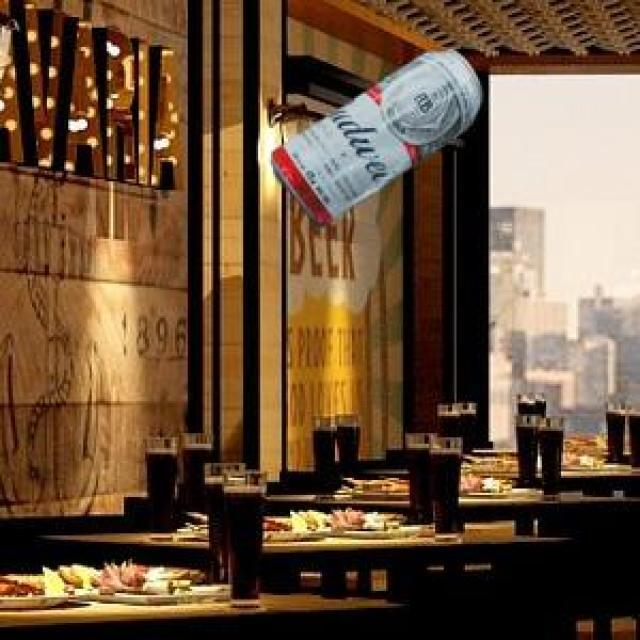Can: (268, 46, 479, 223)
